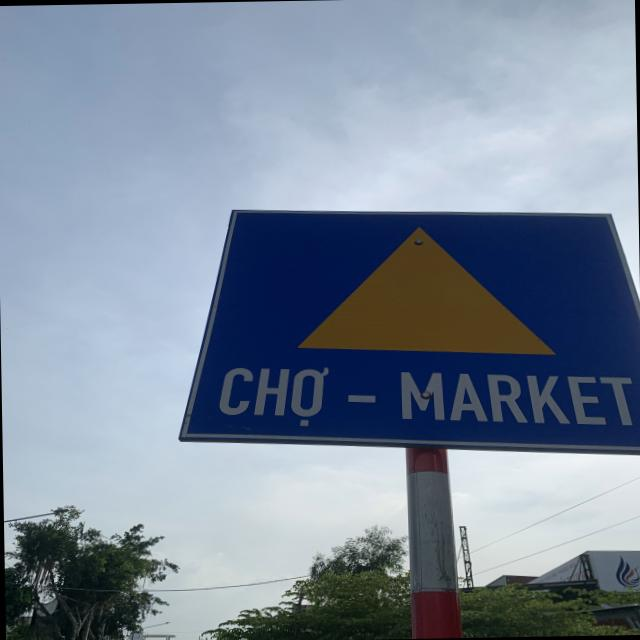Cho_Quay_Xe: (171, 199, 640, 461)
